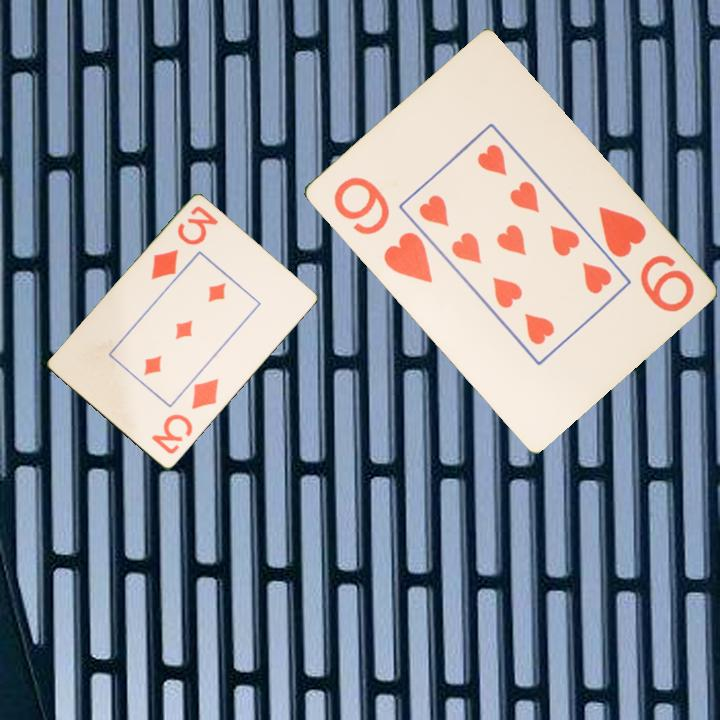3d: (148, 375, 222, 458), (147, 203, 221, 283)
9h: (329, 173, 435, 286), (594, 202, 697, 316)
